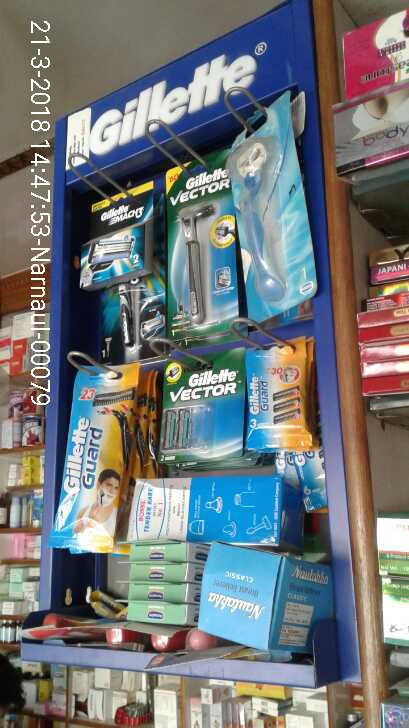gillette: (59, 360, 130, 544), (165, 147, 233, 326), (160, 364, 247, 474), (76, 181, 156, 282), (247, 347, 316, 448)
